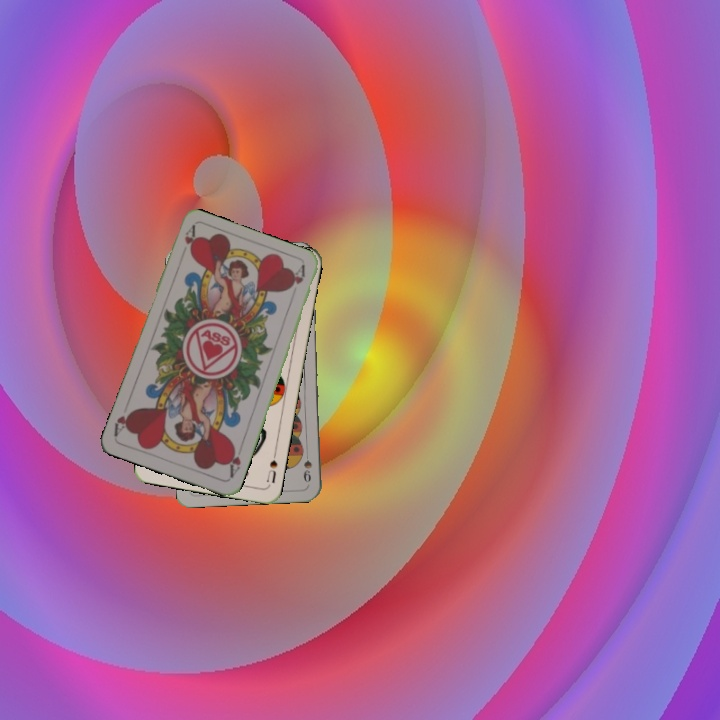HA: (224, 441, 244, 481), (180, 223, 198, 257)
S9: (299, 445, 314, 485)
SU: (262, 448, 280, 486)
